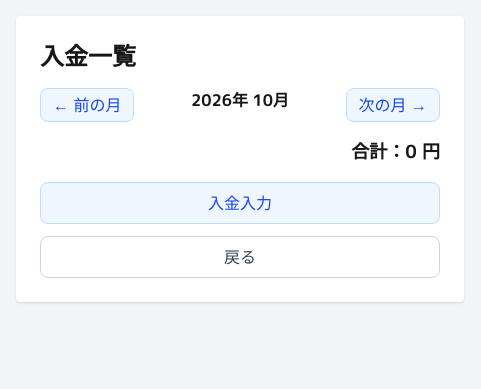
Test: IncomeListPage › 年月切替前の遅いレスポンスで現在の一覧を上書きしない
The width and height of the screenshot is (481, 389).
Click the button "次の月 →" at (393, 105), box [346,88,440,122]
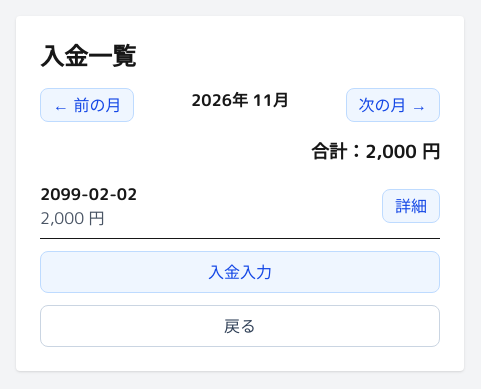
Expected: the text "2099-02-02" is shown, [40,182,137,206]
